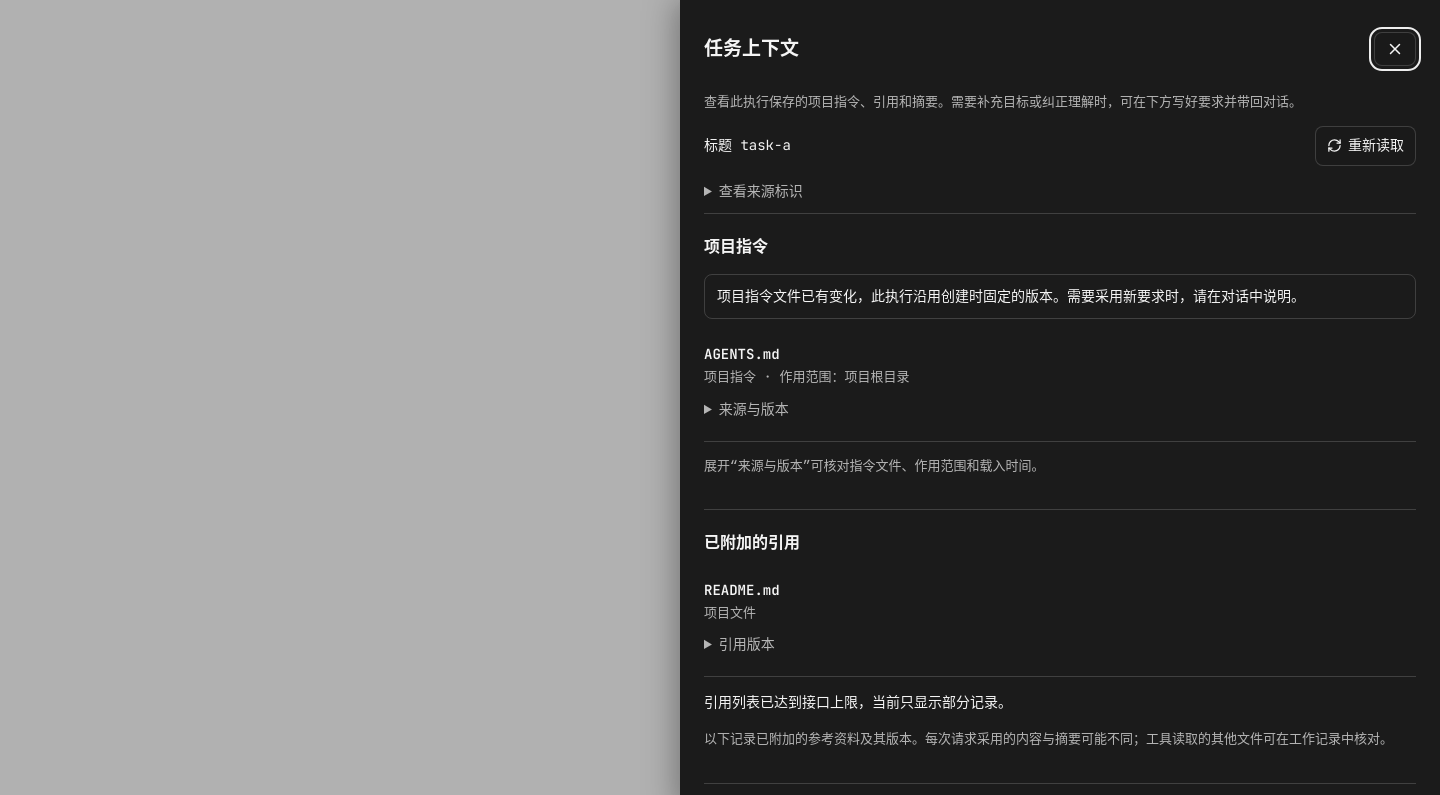
read failure hides cached summary and stays distinct from a confirmed absence; GET retry can recover
Step 1. Click the button "重新读取" → (1366, 146), box 1315,126 -> 1416,166
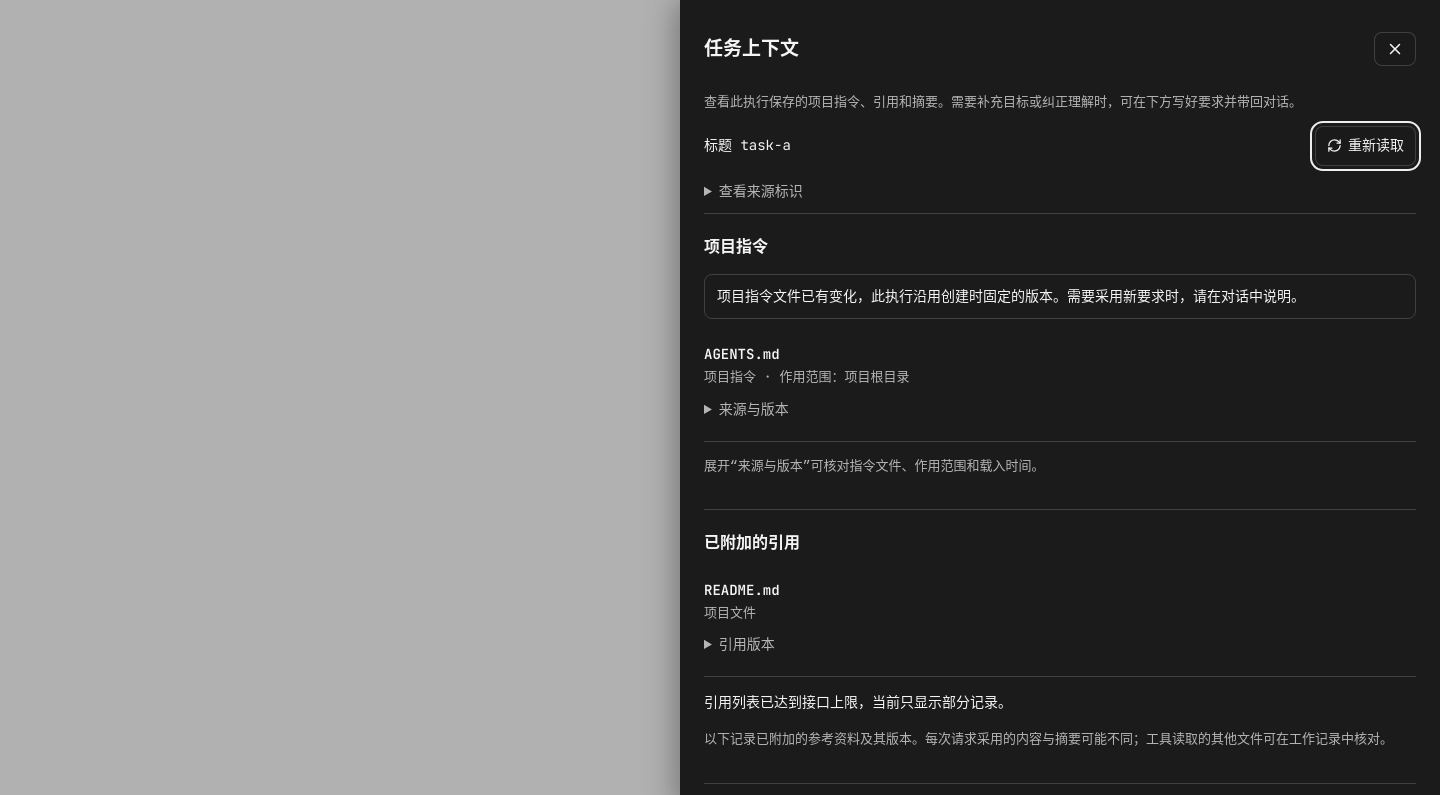
Expected: the text "此会话尚无已保存" is not shown
Step 2. Click the button "重新读取" → (1366, 146), box 1315,126 -> 1416,166
(page scrolled)
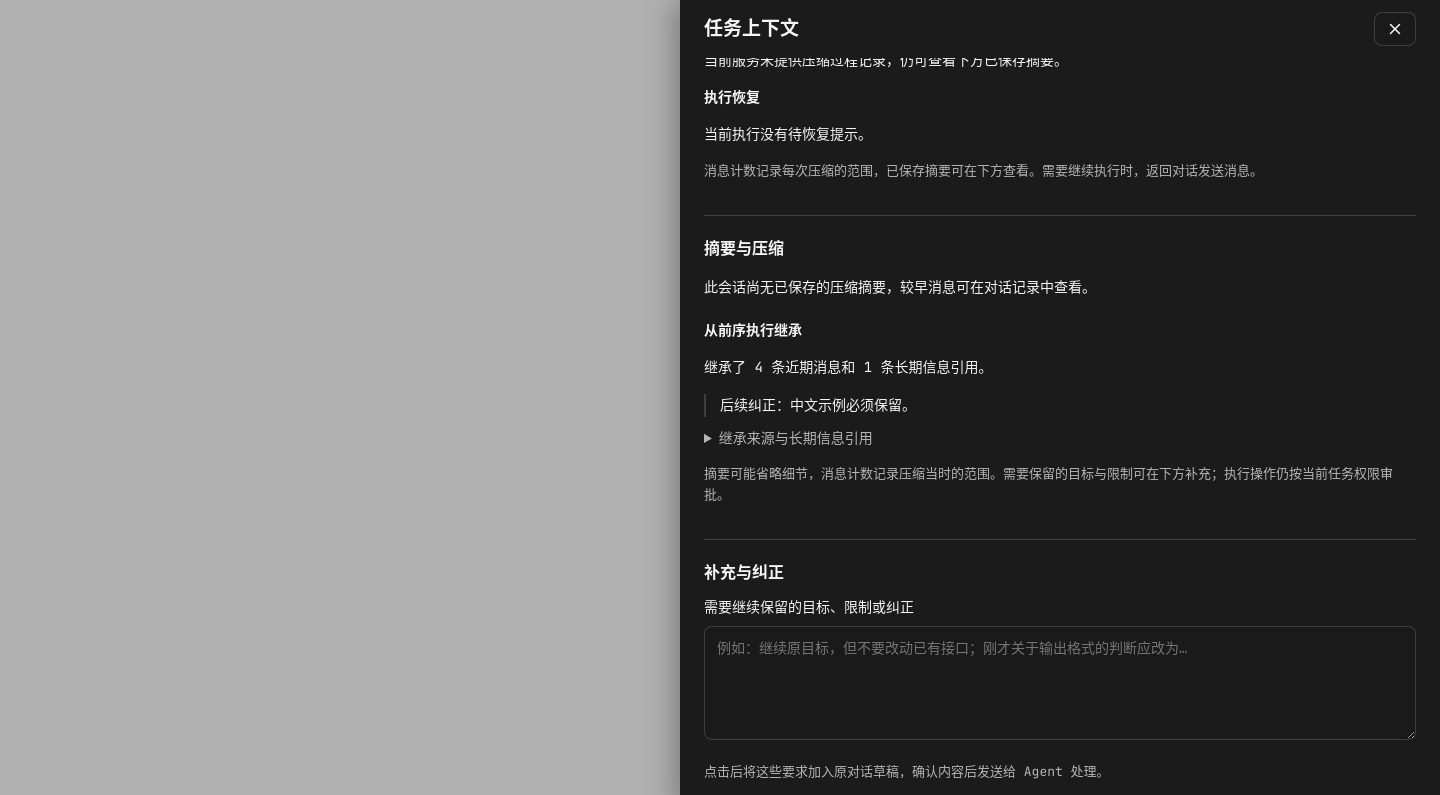
Now the text "此会话尚无已保存的压缩摘要，较早消息可在对话记录中查看。" is shown, box 704,278 -> 1096,296
Now the text "后续纠正：中文示例必须保留。" is shown, box 720,396 -> 916,414
